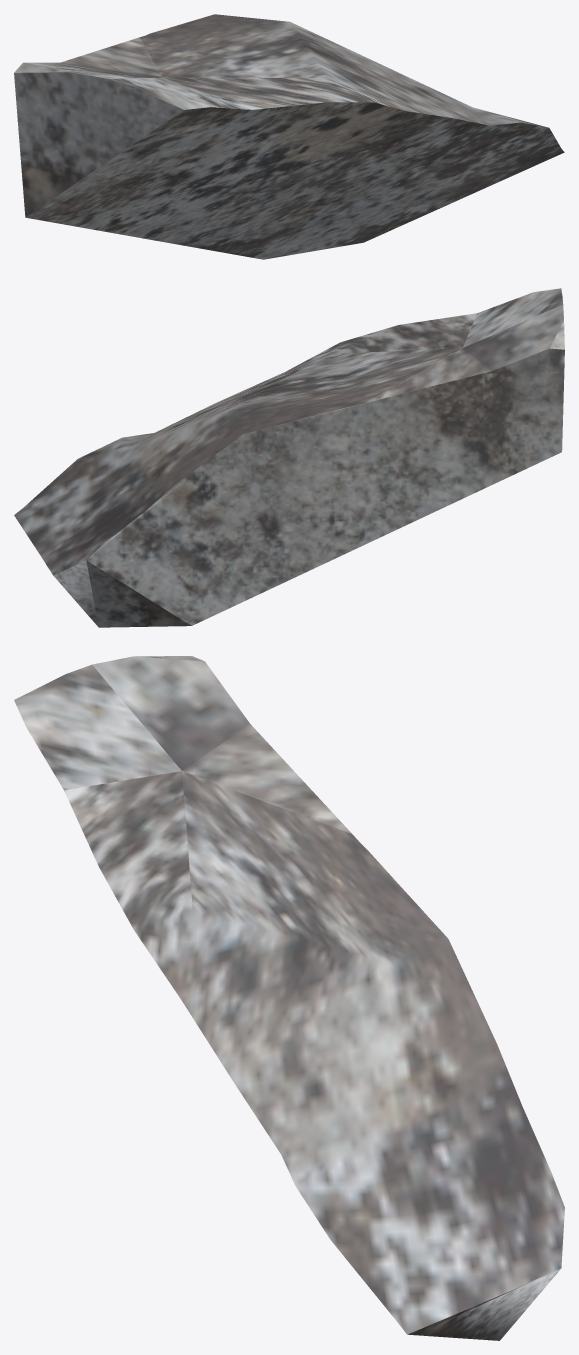
File: Asteroid_Large_001_02_011_03_009.fbx
3 renders of one model, top to bottom at view 1: azimuth 30°, elevation 25°; view 2: azimuth 150°, elevation 25°; view 3: azimuth 270°, elevation 25°, orthographic. The views are drawn at different scales.
Visible parts, largest first — view 1: Asteroid_Large_001_02_011_03_009; view 2: Asteroid_Large_001_02_011_03_009; view 3: Asteroid_Large_001_02_011_03_009.
Part boxes in pixels (x1,y1,x2,y2): Asteroid_Large_001_02_011_03_009: (14, 14, 564, 259); Asteroid_Large_001_02_011_03_009: (14, 288, 564, 627); Asteroid_Large_001_02_011_03_009: (14, 656, 564, 1340).
Bounding box in the file's own units: 10.99 × 6.62 × 7.47.
